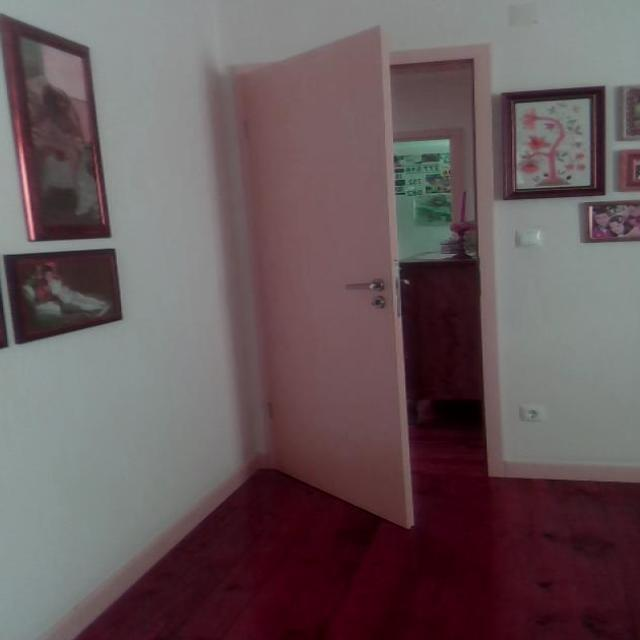door: (231, 23, 415, 530)
